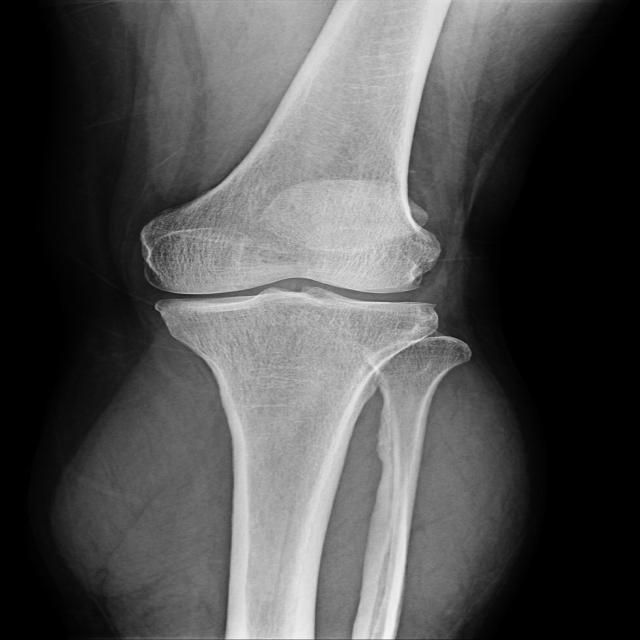osteo: (141, 198, 449, 338)
